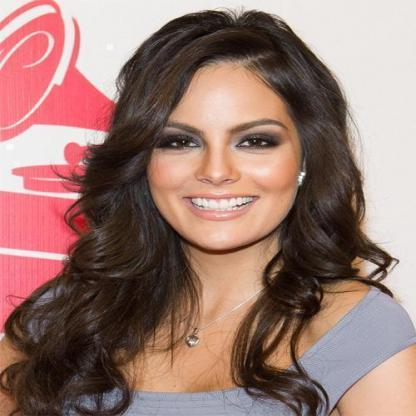long-hair: (48, 250, 397, 316)
